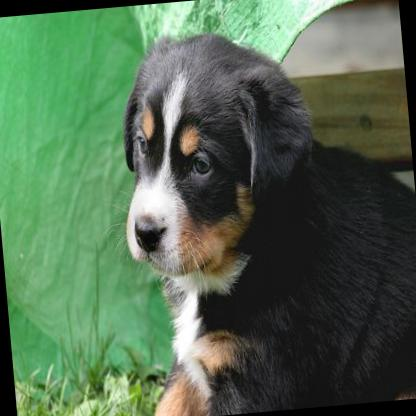Bernese_mountain_dog: (107, 14, 416, 416)
